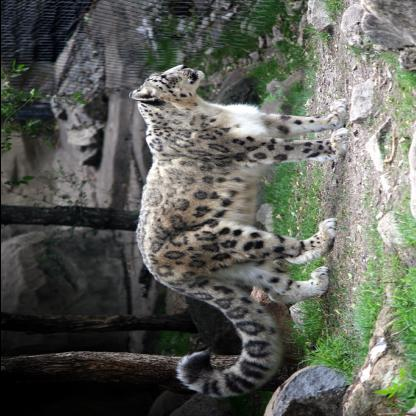leopard: (134, 62, 220, 113)
